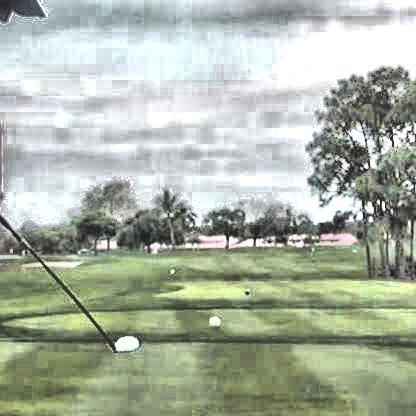golfball: (206, 314, 220, 325)
